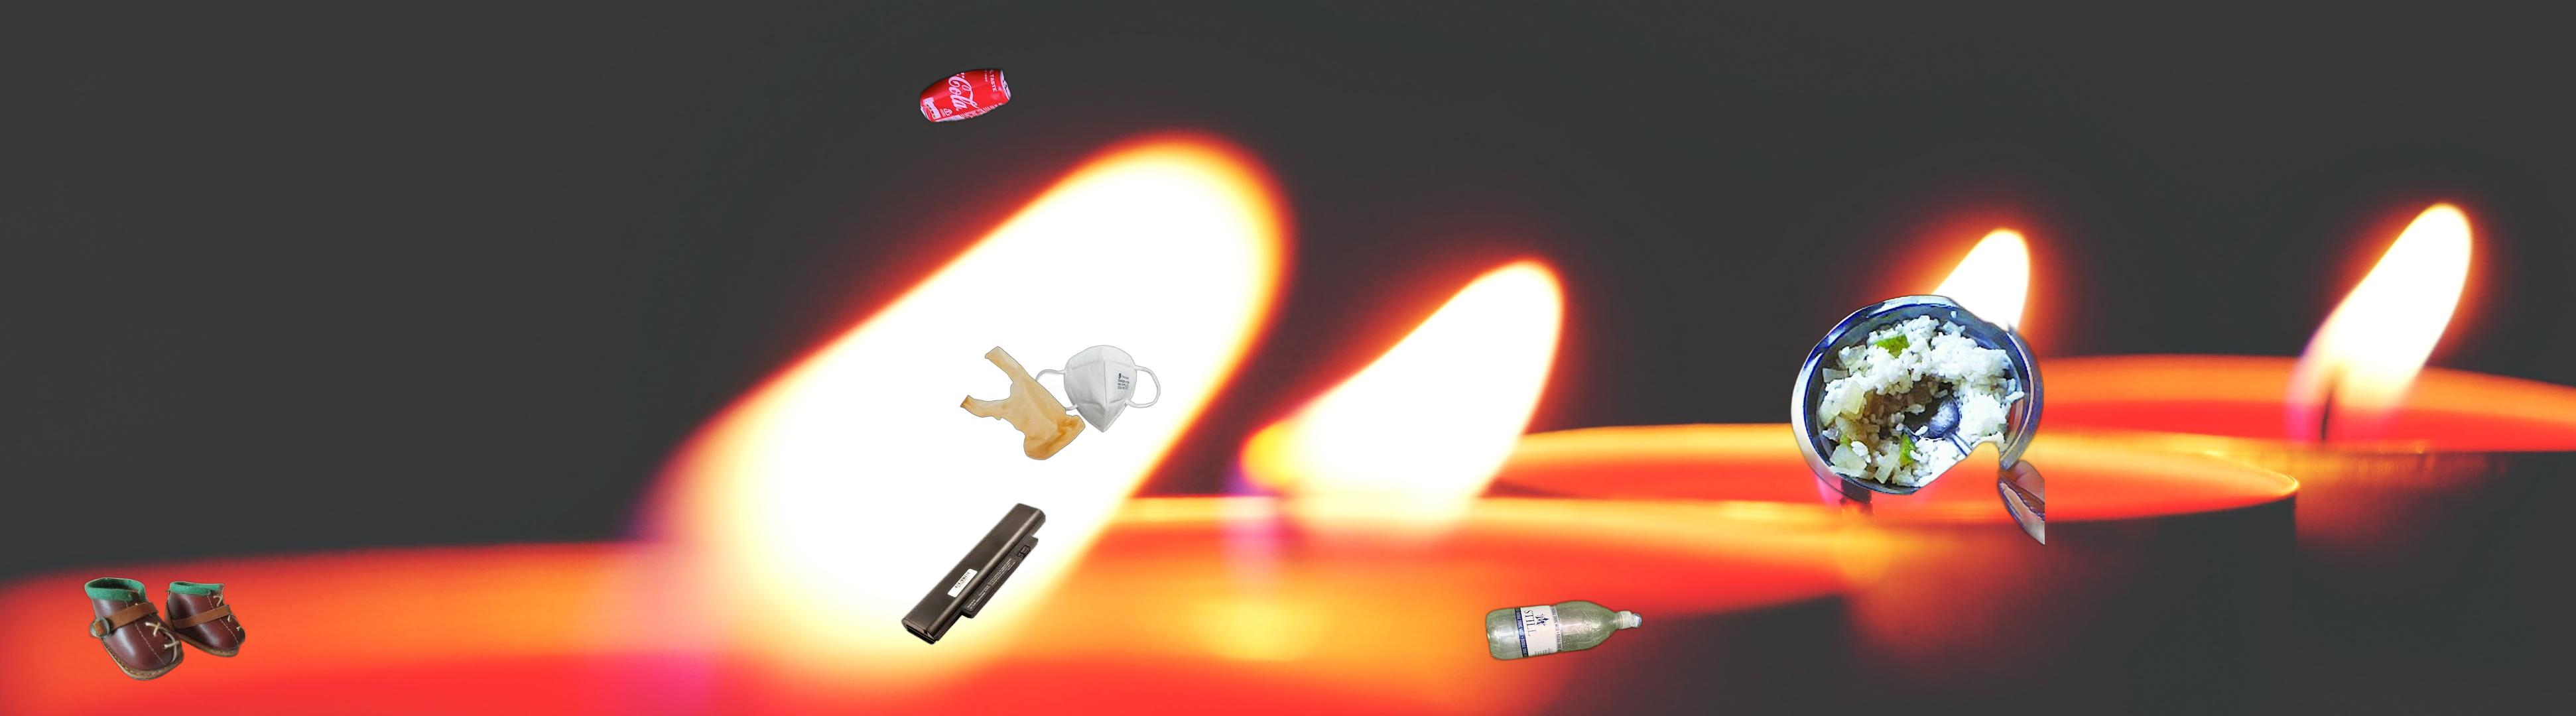battery: (899, 501, 1046, 647)
biological: (1779, 292, 2045, 609)
metal-cans: (917, 66, 1014, 126)
plastic-bag: (959, 345, 1088, 461)
plastic-bottles: (1447, 596, 1646, 716)
shoes: (82, 575, 248, 682)
trash: (1030, 343, 1161, 434)
